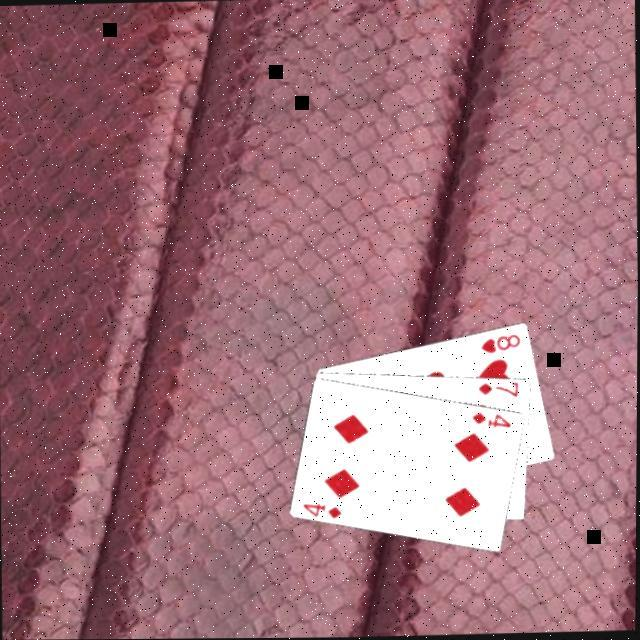4D: (471, 406, 515, 430), (302, 498, 346, 521)
7D: (476, 378, 522, 400)
8H: (478, 330, 524, 355)
